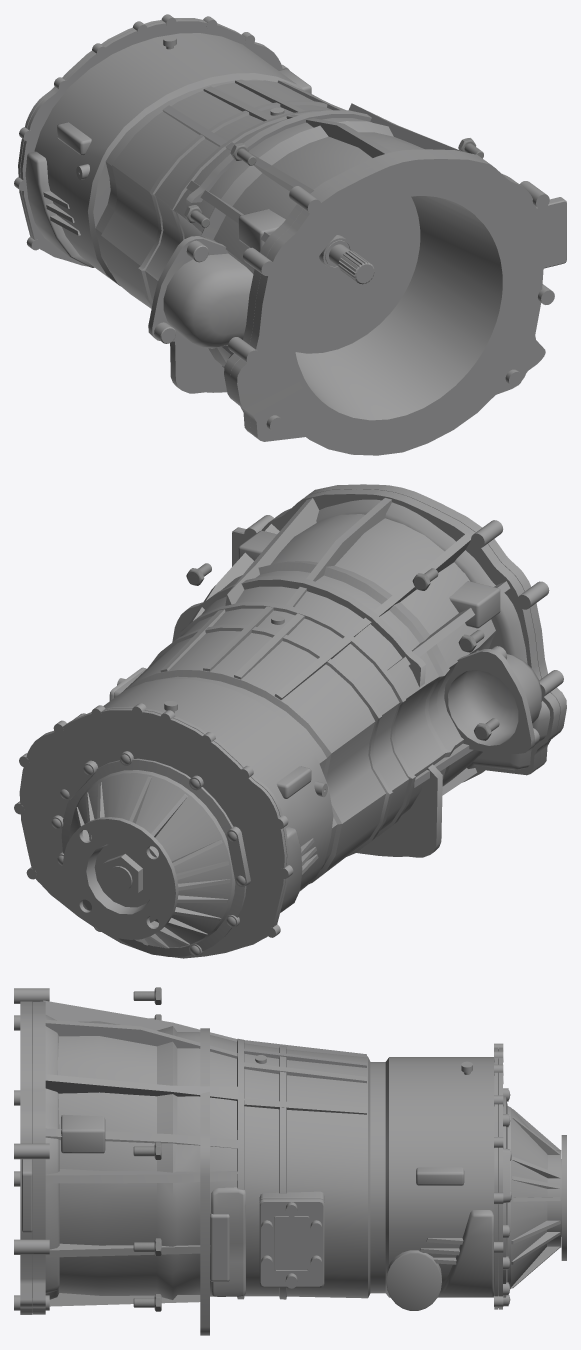
Rendered from tran.glb.
3 views of the same model, one above another, from view 1: azimuth 30°, elevation 25°; view 2: azimuth 150°, elevation 25°; view 3: azimuth 270°, elevation 25° (orthographic). The views are drawn at different scales.
Visible parts, largest first — view 1: v8_gearbox(0); view 2: v8_gearbox(0); view 3: v8_gearbox(0).
Part boxes in pixels (<box>): v8_gearbox(0): <box>14,14,566,455</box>; v8_gearbox(0): <box>14,484,566,958</box>; v8_gearbox(0): <box>14,988,566,1335</box>.
Size of the model in its own units: 0.00716 by 0.00555 by 0.00998.
2 materials, 1 textured.
